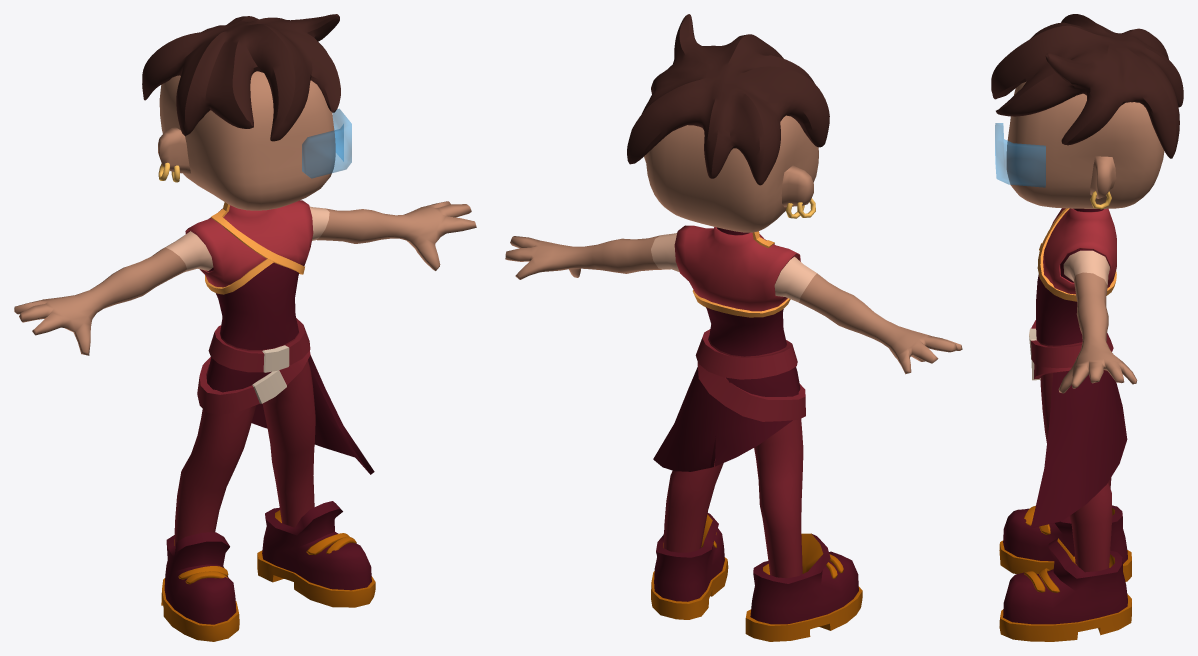
File: the ultimate g.fbx
3 renders of one model, left to right at view 1: azimuth 30°, elevation 25°; view 2: azimuth 150°, elevation 25°; view 3: azimuth 270°, elevation 25°, orthographic.
Parts seen in each view (by area): view 1: cuerpo.001, PELO, cabeza, capa, SCOUTER; view 2: cuerpo.001, PELO, cabeza, capa; view 3: cuerpo.001, PELO, cabeza, capa, SCOUTER.
Part boxes in pixels (<box>): cuerpo.001: <box>14,200,476,641</box>; PELO: <box>142,14,340,141</box>; cabeza: <box>158,71,335,210</box>; capa: <box>206,355,374,474</box>; SCOUTER: <box>302,108,351,178</box>; cuerpo.001: <box>505,225,962,641</box>; PELO: <box>627,14,829,185</box>; cabeza: <box>644,115,818,232</box>; capa: <box>653,366,800,471</box>; cuerpo.001: <box>999,208,1137,641</box>; PELO: <box>991,14,1183,158</box>; cabeza: <box>1006,81,1164,208</box>; capa: <box>1031,371,1127,528</box>; SCOUTER: <box>995,123,1045,187</box>.
Size of the model in its own units: 137 by 167 by 50.69.
